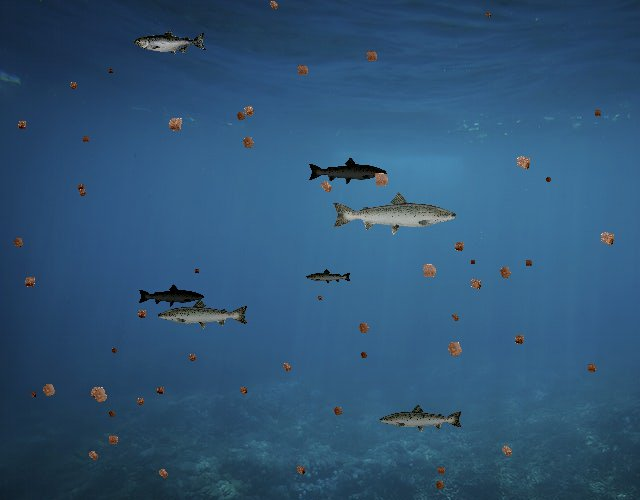Fish: (330, 190, 459, 236), (156, 297, 250, 331), (378, 403, 464, 434), (308, 157, 389, 186), (134, 30, 207, 56), (138, 284, 206, 308), (306, 269, 353, 286)
Pellet: (161, 111, 189, 139), (314, 174, 338, 198), (236, 131, 260, 155), (237, 100, 260, 123), (8, 232, 29, 253), (74, 185, 90, 201), (542, 174, 555, 187), (27, 388, 39, 400)
